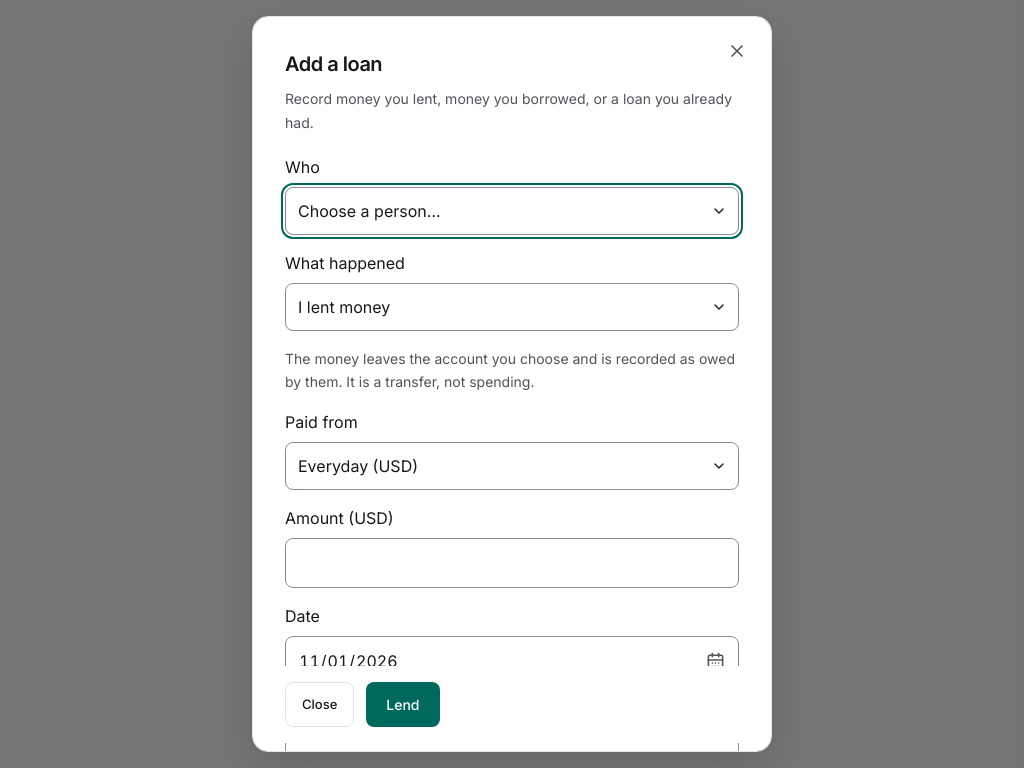
LoanDialog › asks who a loan is with when there are people to choose from
Type "10" into the field labelled "Amount (USD)" at (512, 563), box [285,538,739,588]
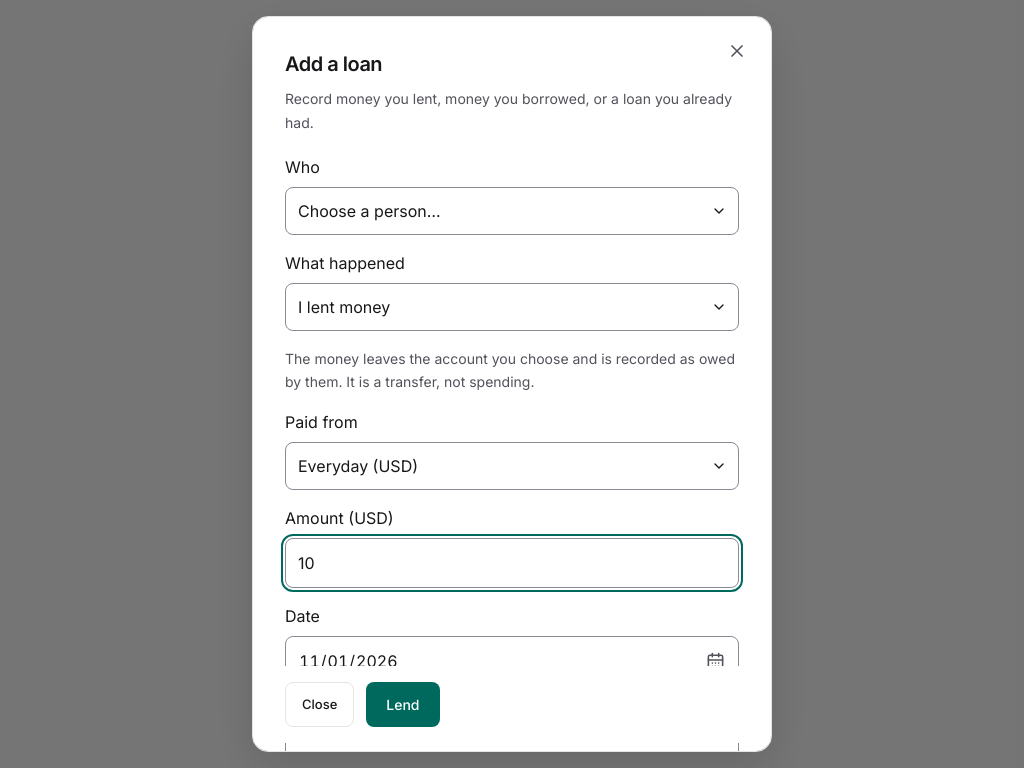
Click the button "Lend" at (403, 704), box [366,682,440,727]
(page scrolled)
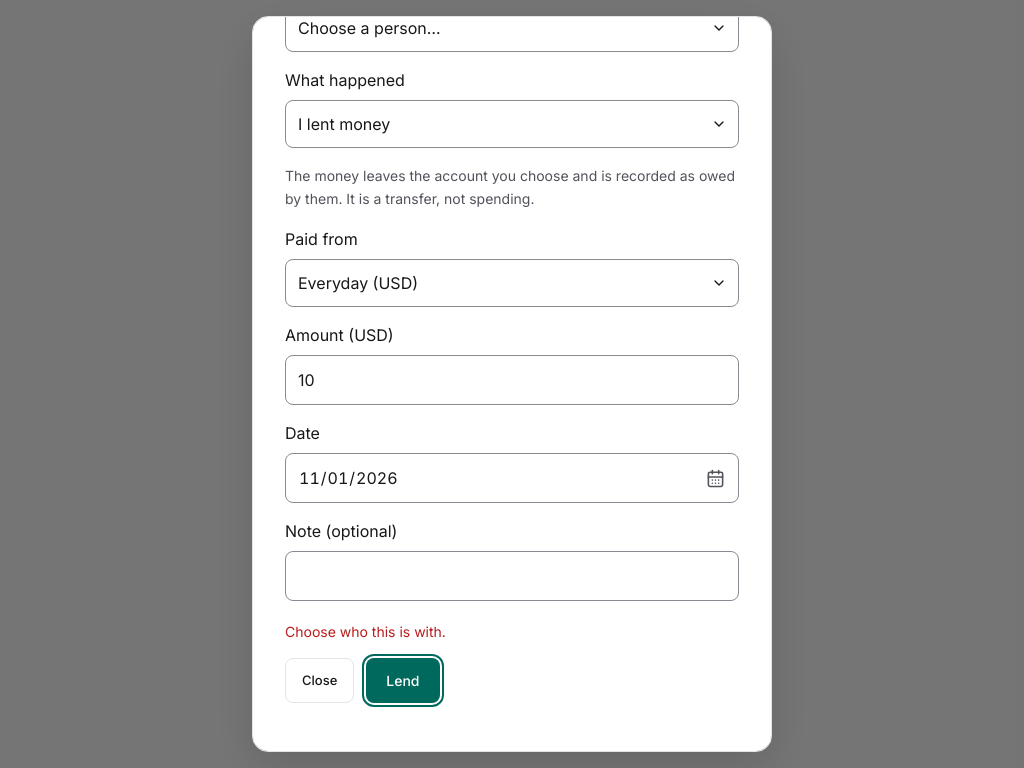
Check: the message shows "Choose who this is with", box [285,623,446,640]
